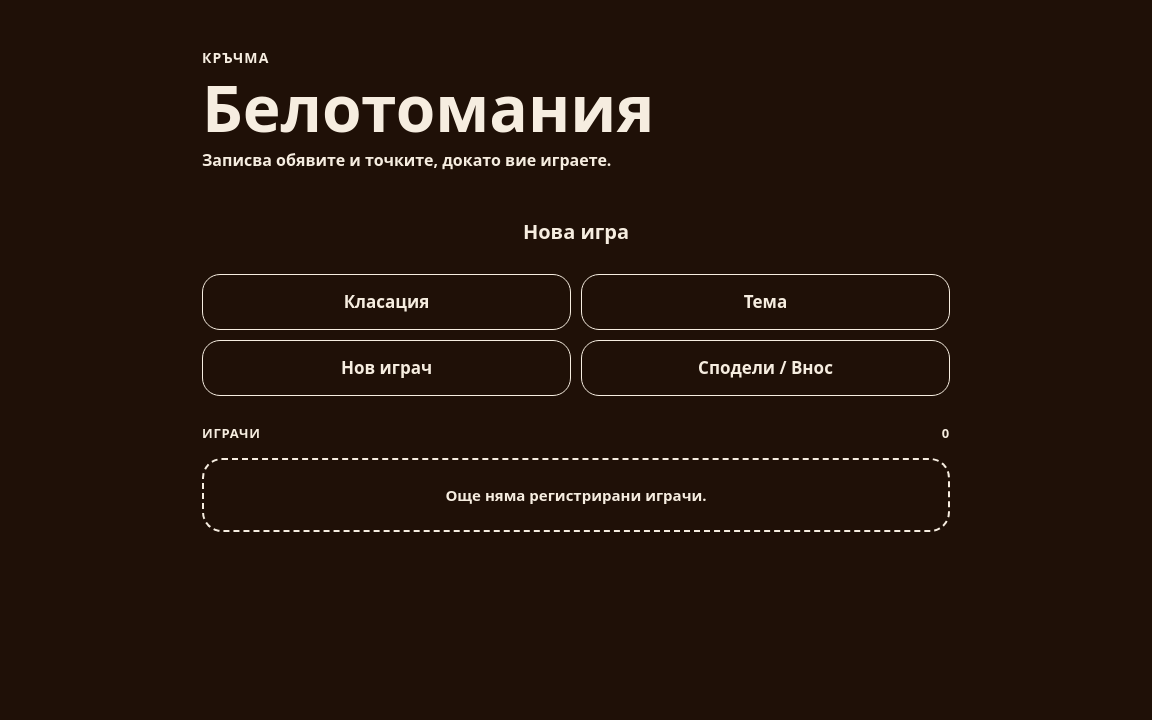
Test: Home › opens the theme sheet from "Тема"
Click the button "Тема". click: [766, 302]
box: [581, 274, 950, 330]
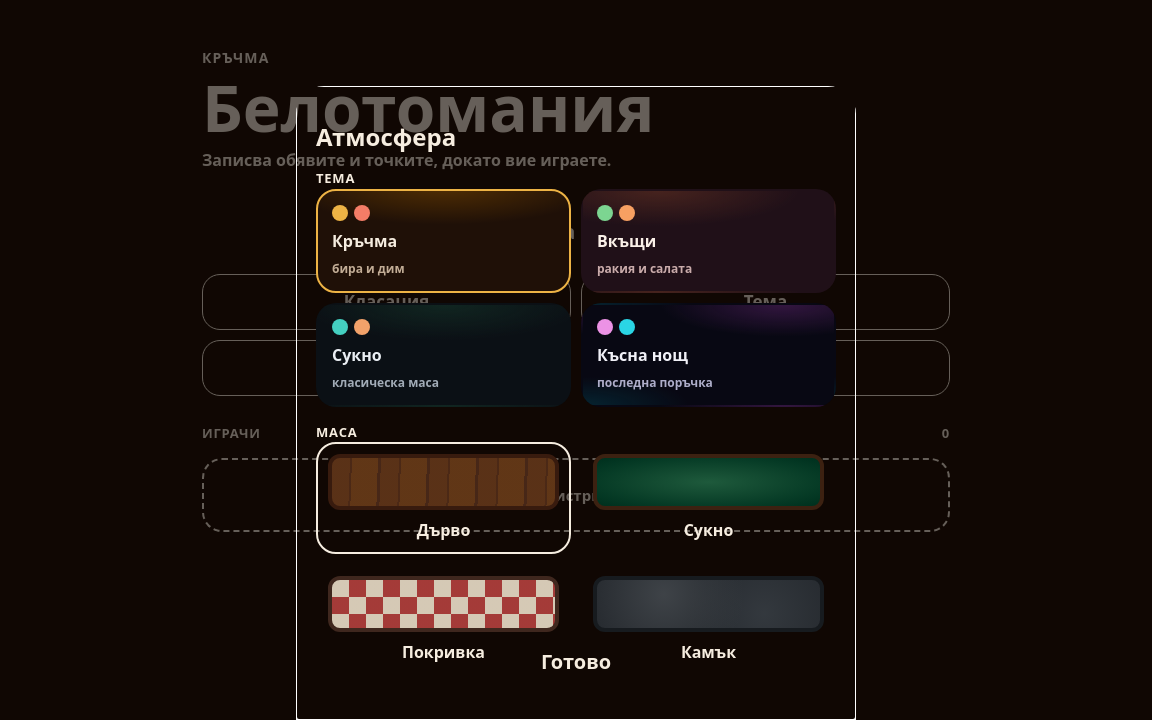
Expected: the dialog "Атмосфера" is shown, [296, 86, 856, 719]
